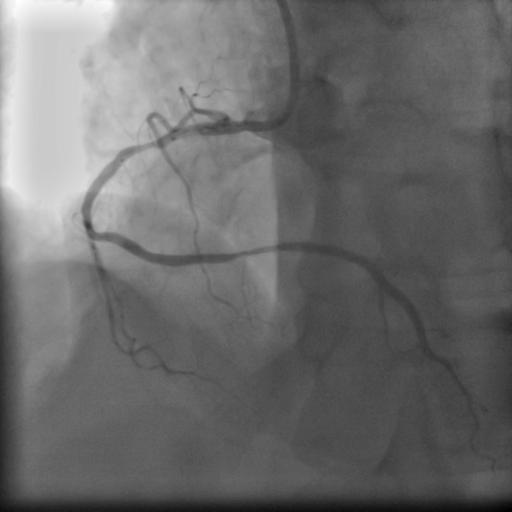Stenosis: (131, 136, 159, 156)
